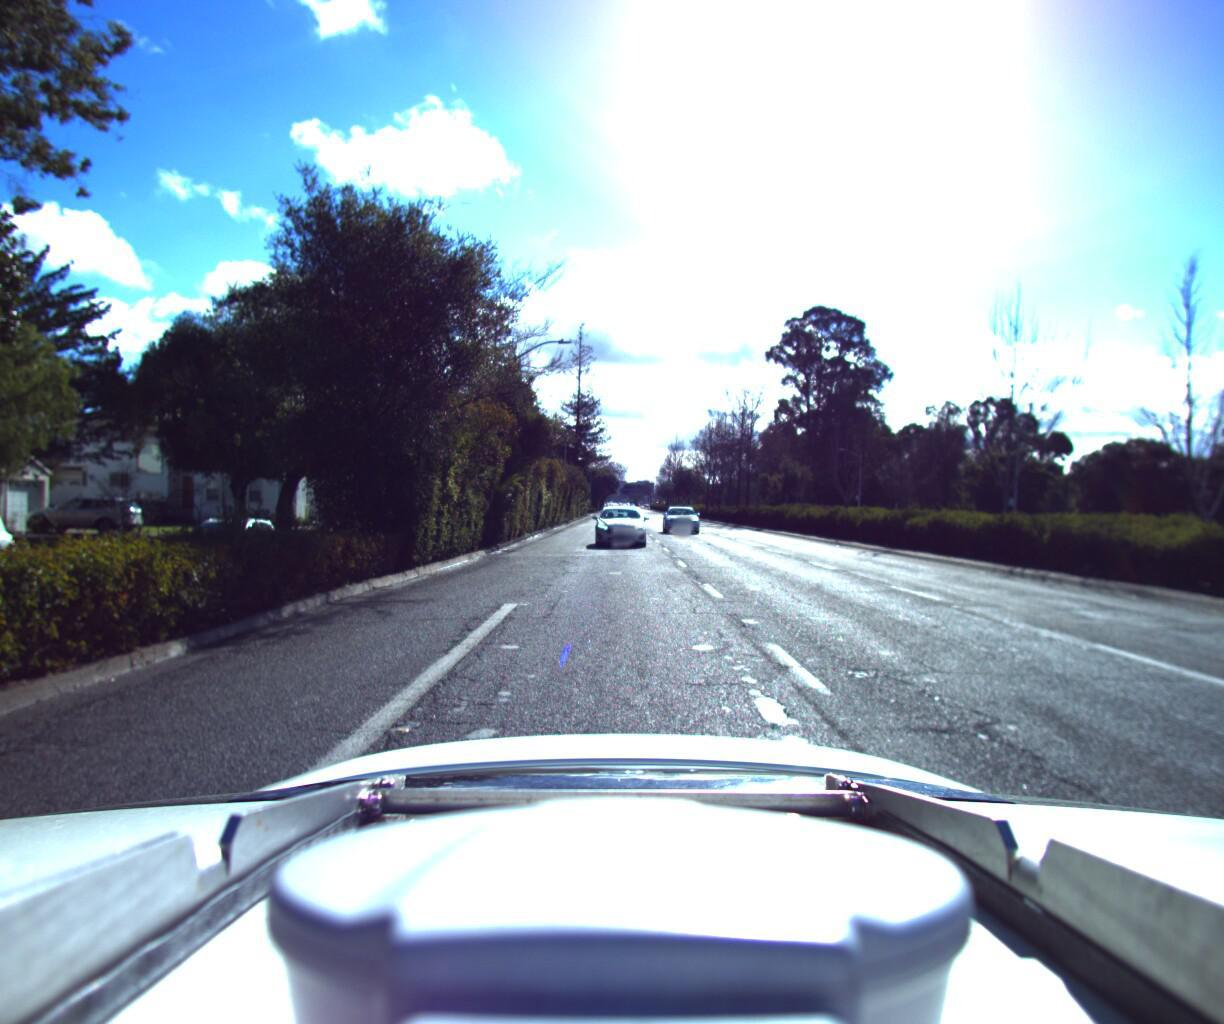car: (148, 510, 294, 592), (0, 491, 34, 681), (15, 491, 145, 536), (590, 498, 646, 543), (660, 501, 702, 535)
